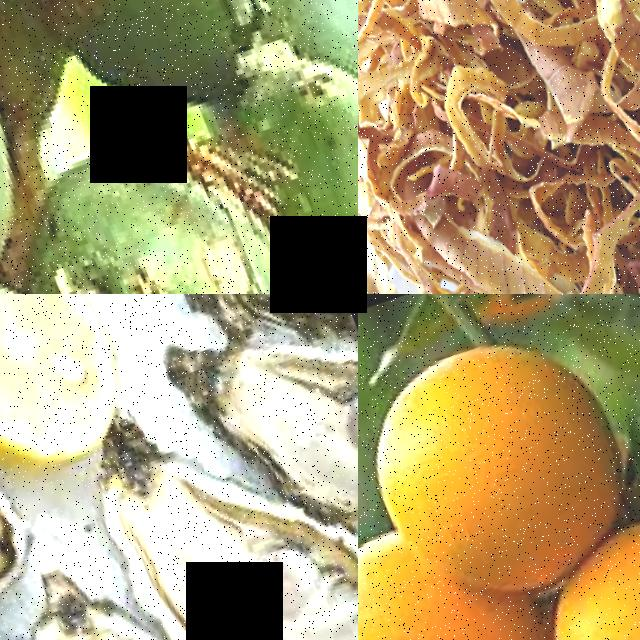lemon: (0, 294, 147, 495)
orange: (358, 294, 640, 622), (518, 461, 640, 640), (358, 512, 504, 640)
oysters: (84, 391, 358, 640), (148, 294, 358, 566), (0, 541, 256, 640), (144, 294, 352, 363)
